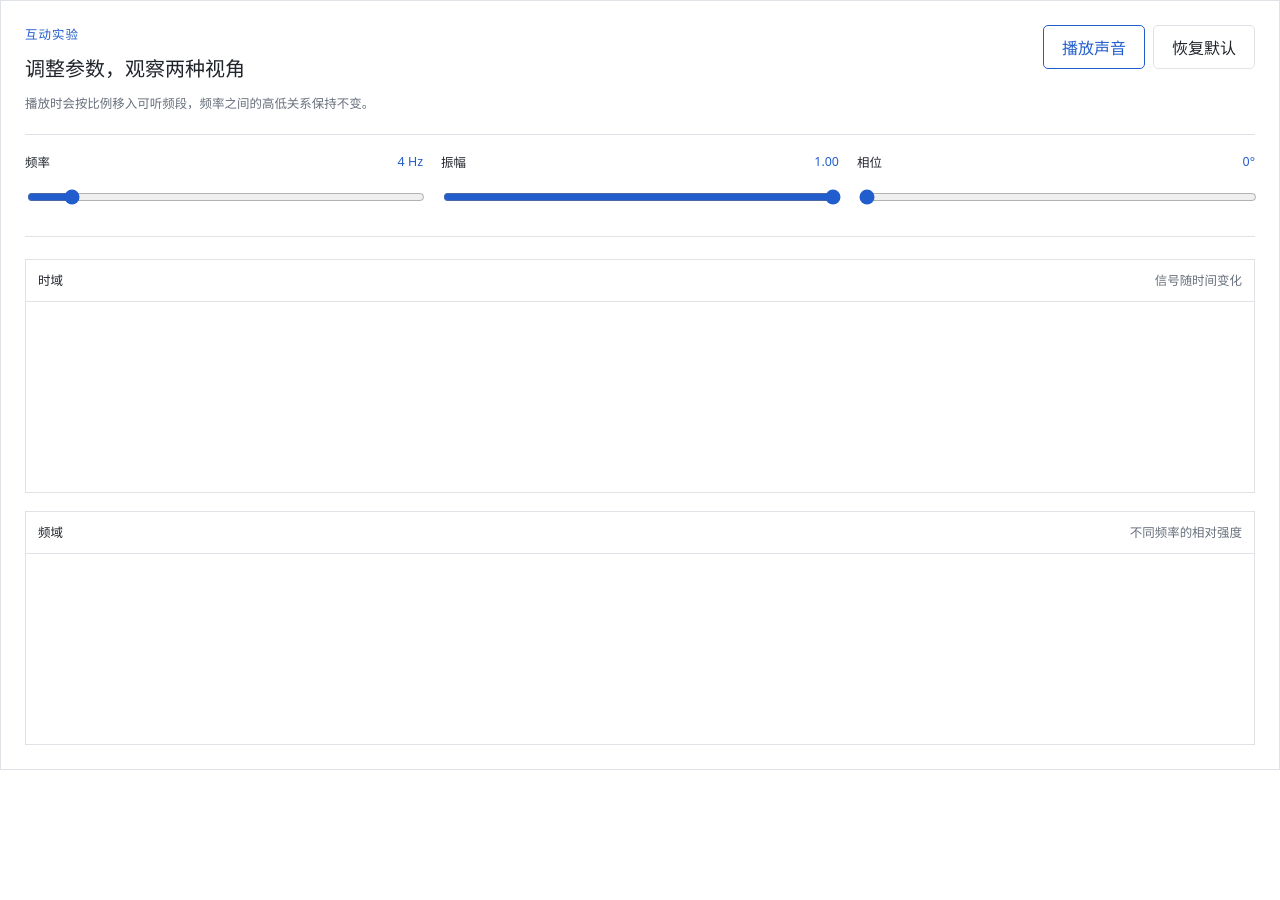
Test case: Experiment › 恢复默认参数
Set the slider named "振幅" to "0.3" at (566, 197), box [443, 181, 841, 213]
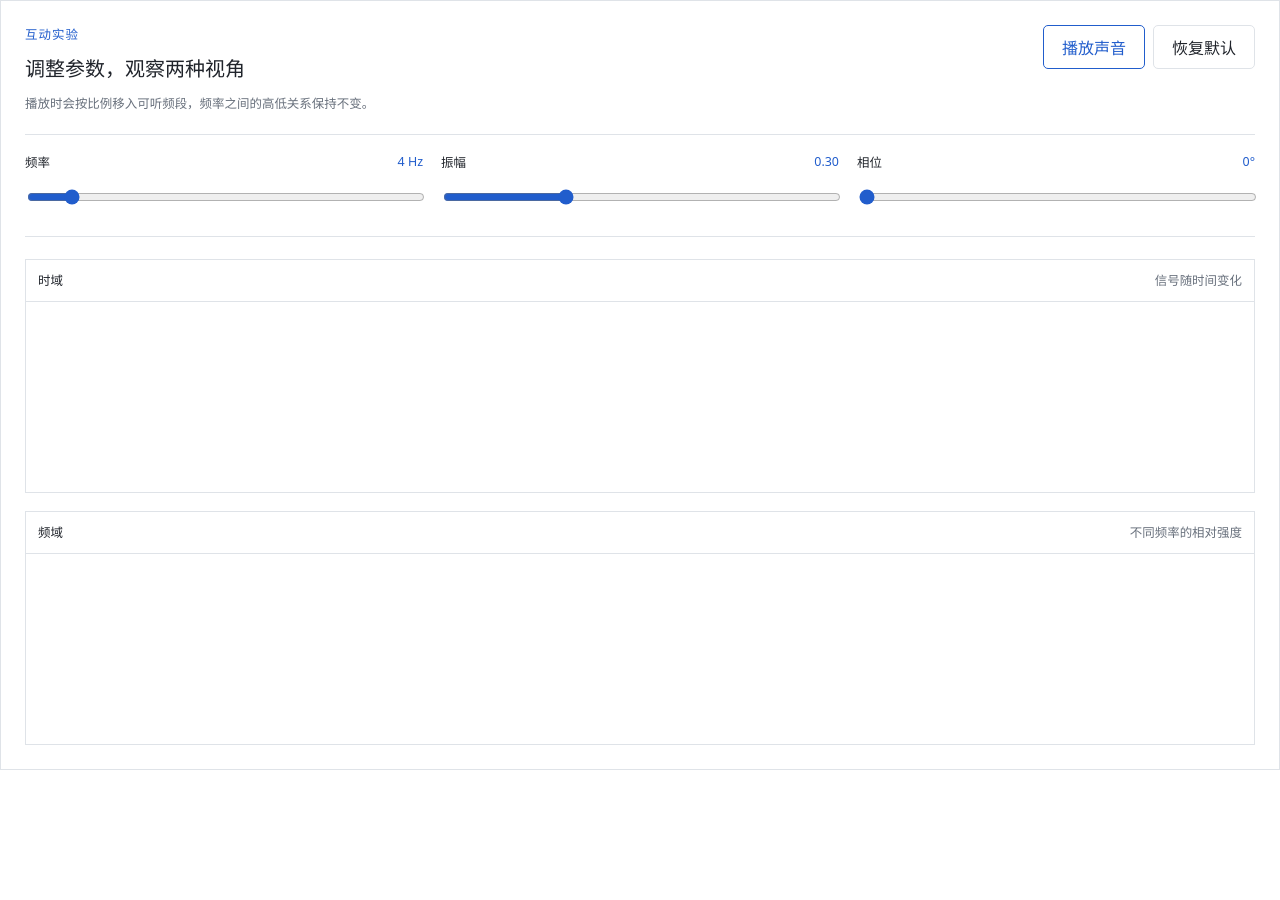
Click the button "恢复默认" at (1204, 47), box [1153, 25, 1255, 69]
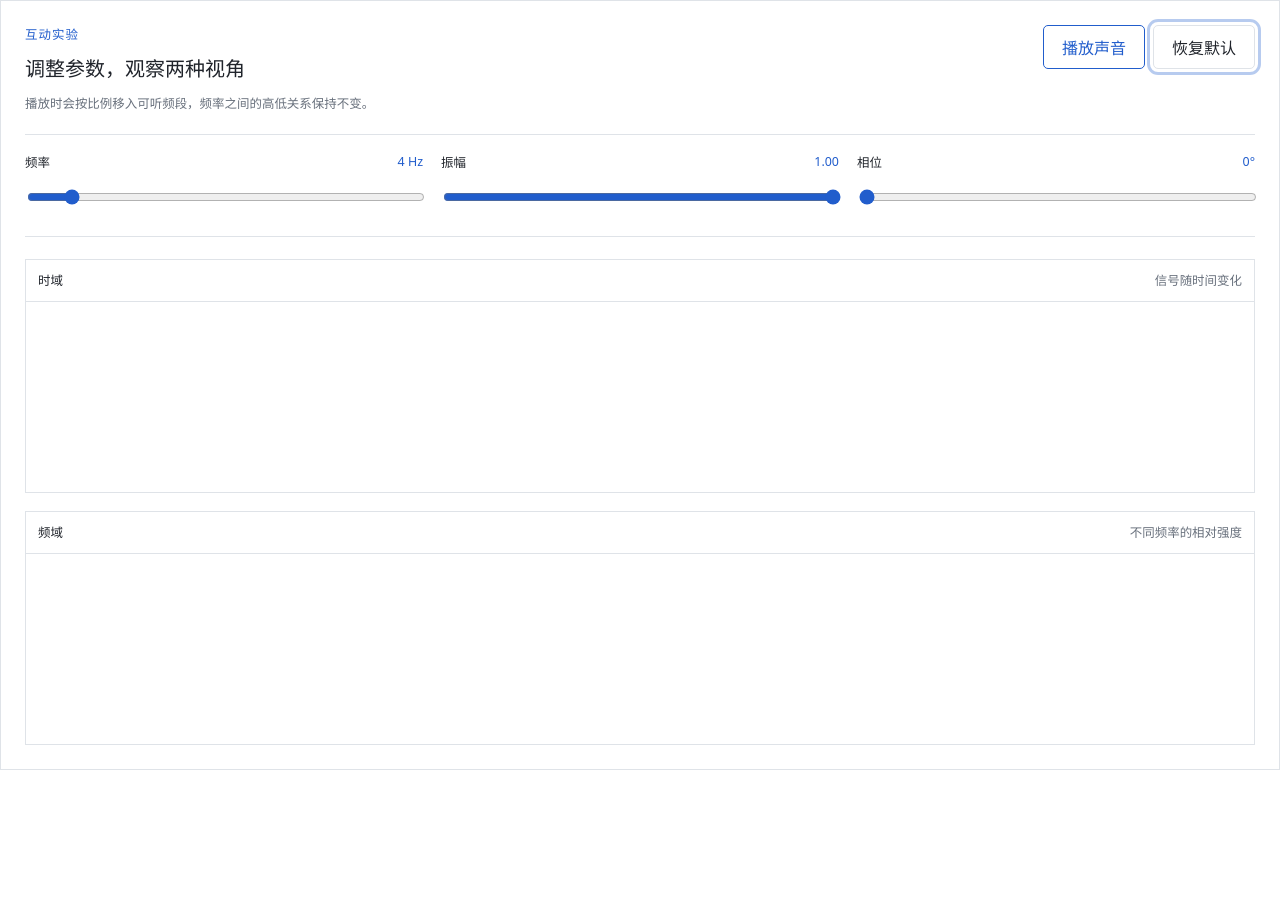
Now the text "1.00" is shown, box [814, 153, 839, 171]
